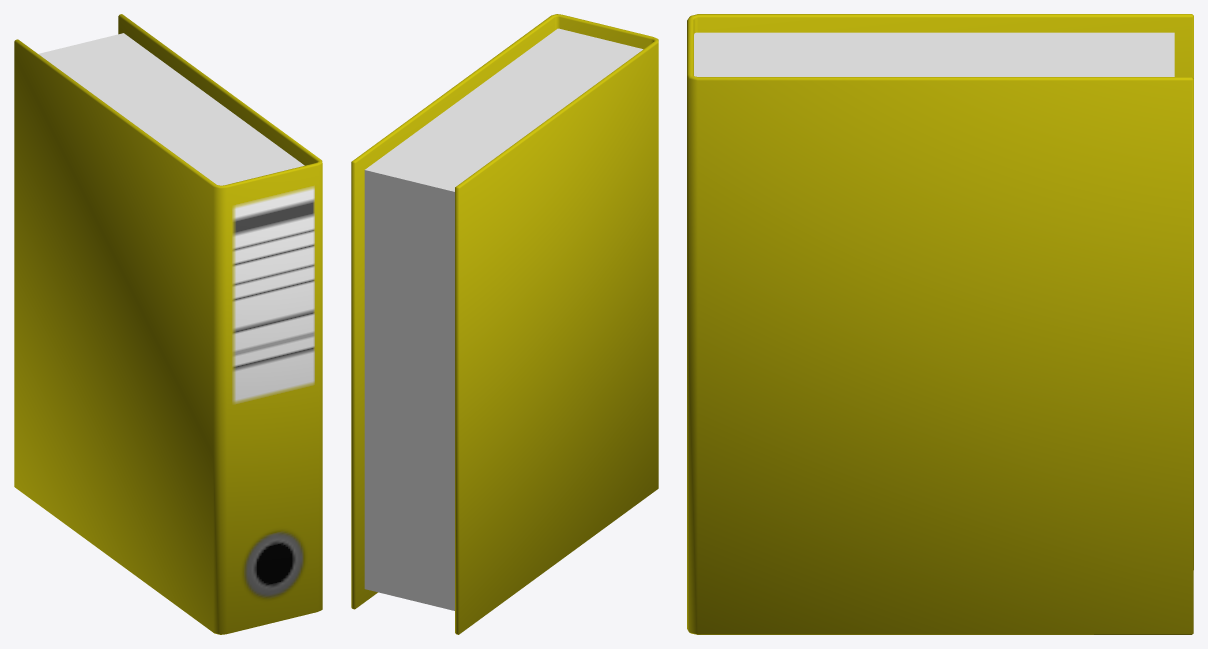
Rendered from office folder4.FBX.
The picture shows the model from 3 angles, left to right: view 1: azimuth 30°, elevation 25°; view 2: azimuth 150°, elevation 25°; view 3: azimuth 270°, elevation 25°; orthographic projection. The views are drawn at different scales.
Visible parts, largest first — view 1: office folder4; view 2: office folder4; view 3: office folder4.
Boxes of the visible parts, left/top/right/bottom form: office folder4: left=14, top=14, right=322, bottom=634; office folder4: left=351, top=14, right=658, bottom=634; office folder4: left=687, top=14, right=1193, bottom=634.
Size of the model in its own units: 2.88 by 9.36 by 11.33.
Materials: 1 (1 with a texture image).
